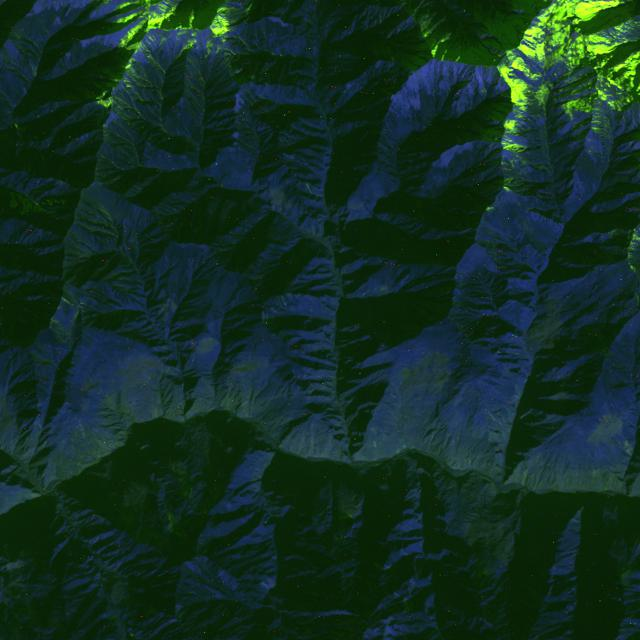landslides: (129, 92, 162, 127), (383, 555, 413, 571), (488, 411, 514, 429), (153, 384, 163, 418), (306, 183, 324, 199), (584, 548, 602, 562), (565, 547, 584, 558), (625, 502, 635, 522), (288, 294, 298, 309), (620, 501, 629, 517), (29, 63, 39, 77), (199, 346, 214, 354), (488, 427, 505, 434), (37, 400, 46, 413), (569, 552, 585, 559), (617, 500, 626, 512), (281, 295, 288, 310), (624, 441, 634, 451)
